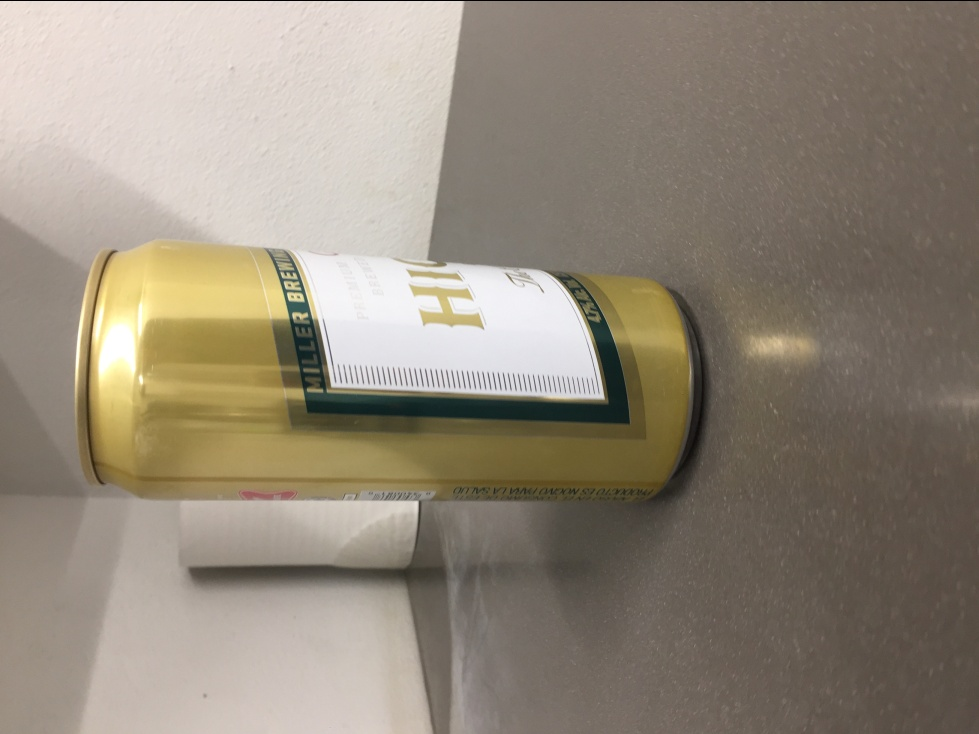miller: (73, 232, 705, 505)
